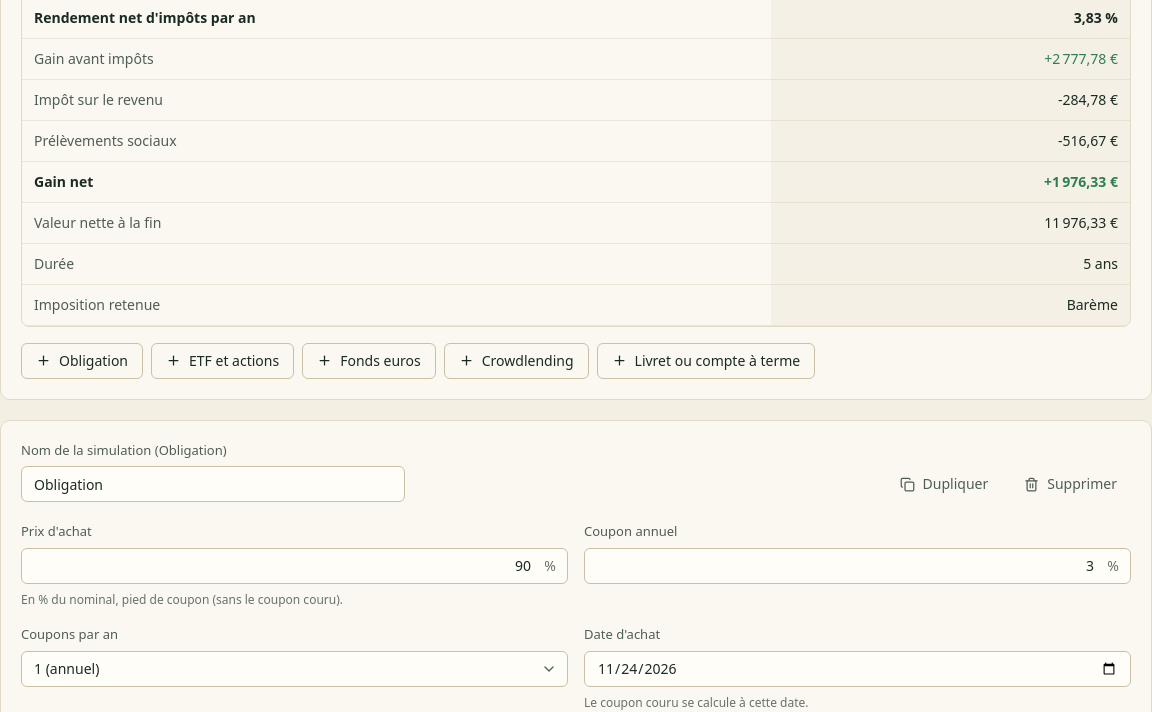
Scenario: page Simulateurs › obligation par défaut, ajout d'un ETF en PEA, comparaison côte à côte
The image size is (1152, 712).
(page scrolled)
Click the button "ETF et actions": {"x": 223, "y": 360} [151,342,294,378]
(page scrolled)
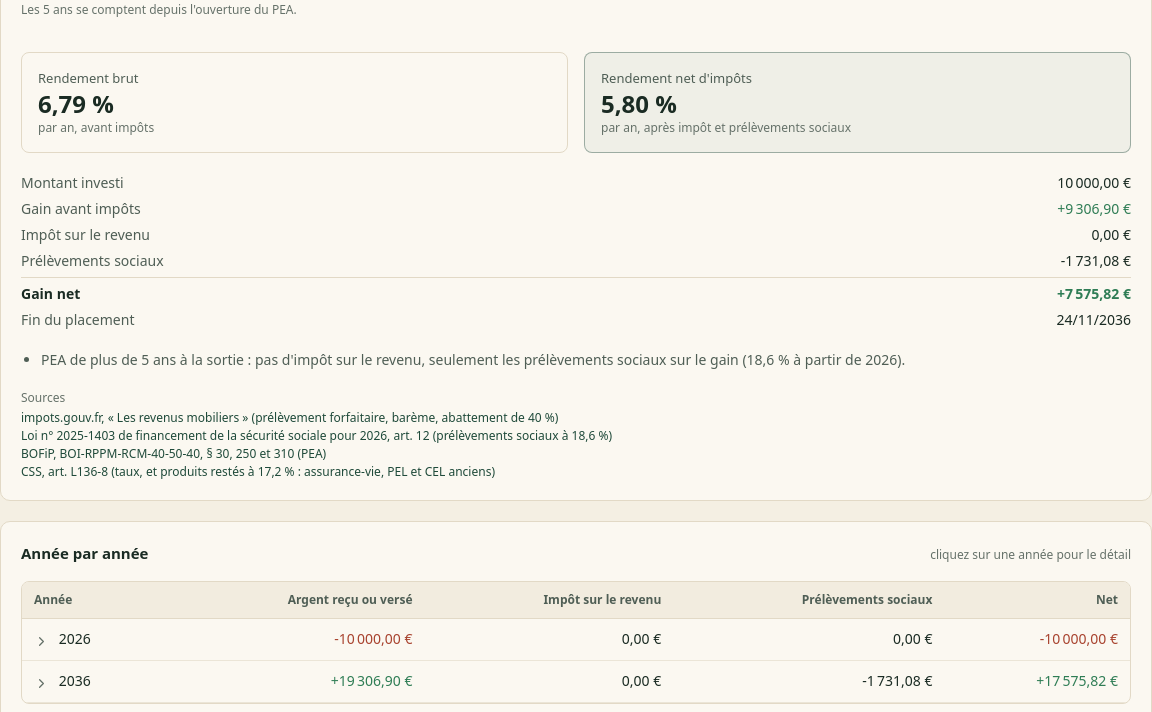
Expected: the list item "PEA de plus de 5 ans à la sortie" is shown, [41,350,905,369]
